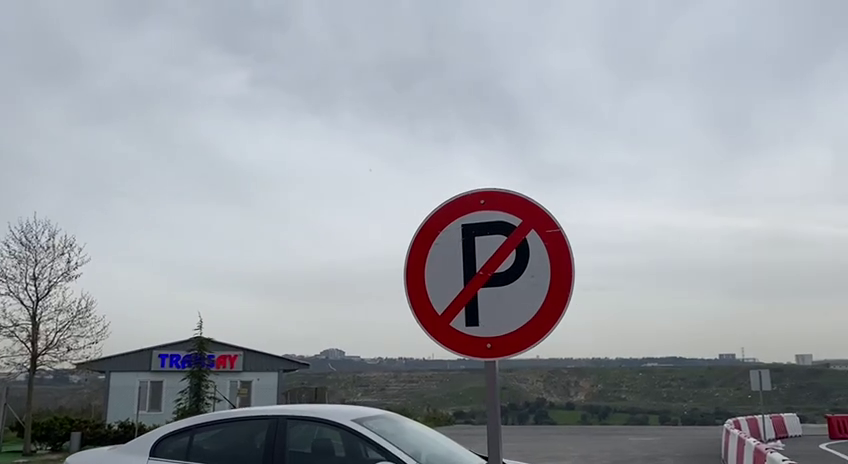noparking: (402, 185, 579, 363)
